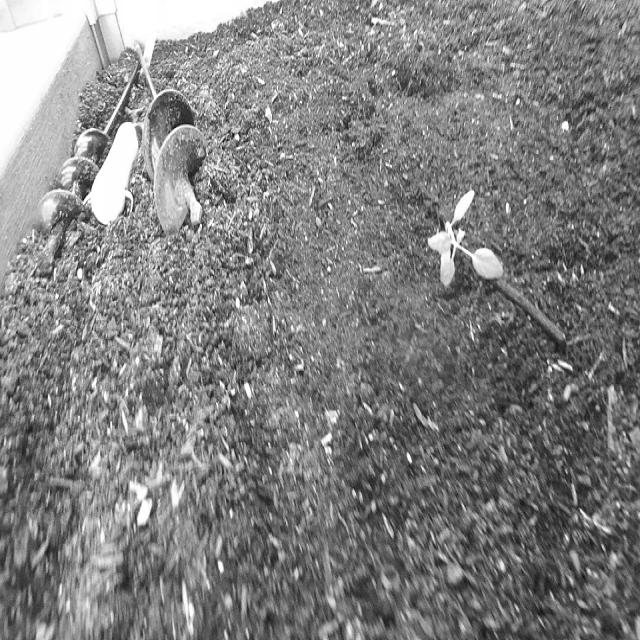Healthy: (419, 172, 512, 323)
